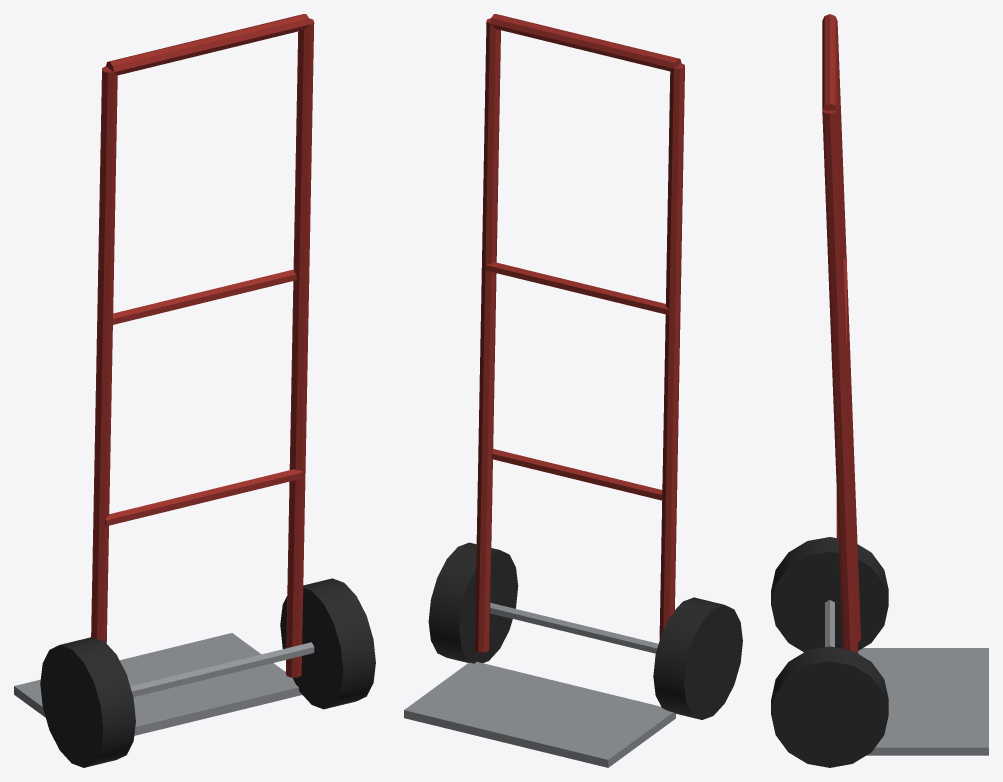
The model's file is prop_hand_truck.glb.
The picture shows the model from 3 angles, left to right: view 1: azimuth 30°, elevation 25°; view 2: azimuth 150°, elevation 25°; view 3: azimuth 270°, elevation 25°; orthographic projection. The views are drawn at different scales.
Visible parts, largest first — view 1: Truck; view 2: Truck; view 3: Truck.
Boxes of the visible parts, x1,y1,x2,y2 form: Truck: [14, 14, 375, 767]; Truck: [404, 14, 742, 767]; Truck: [771, 14, 988, 767].
Size of what is drawn, in the model's own units: 0.5 by 1.21 by 0.37.
